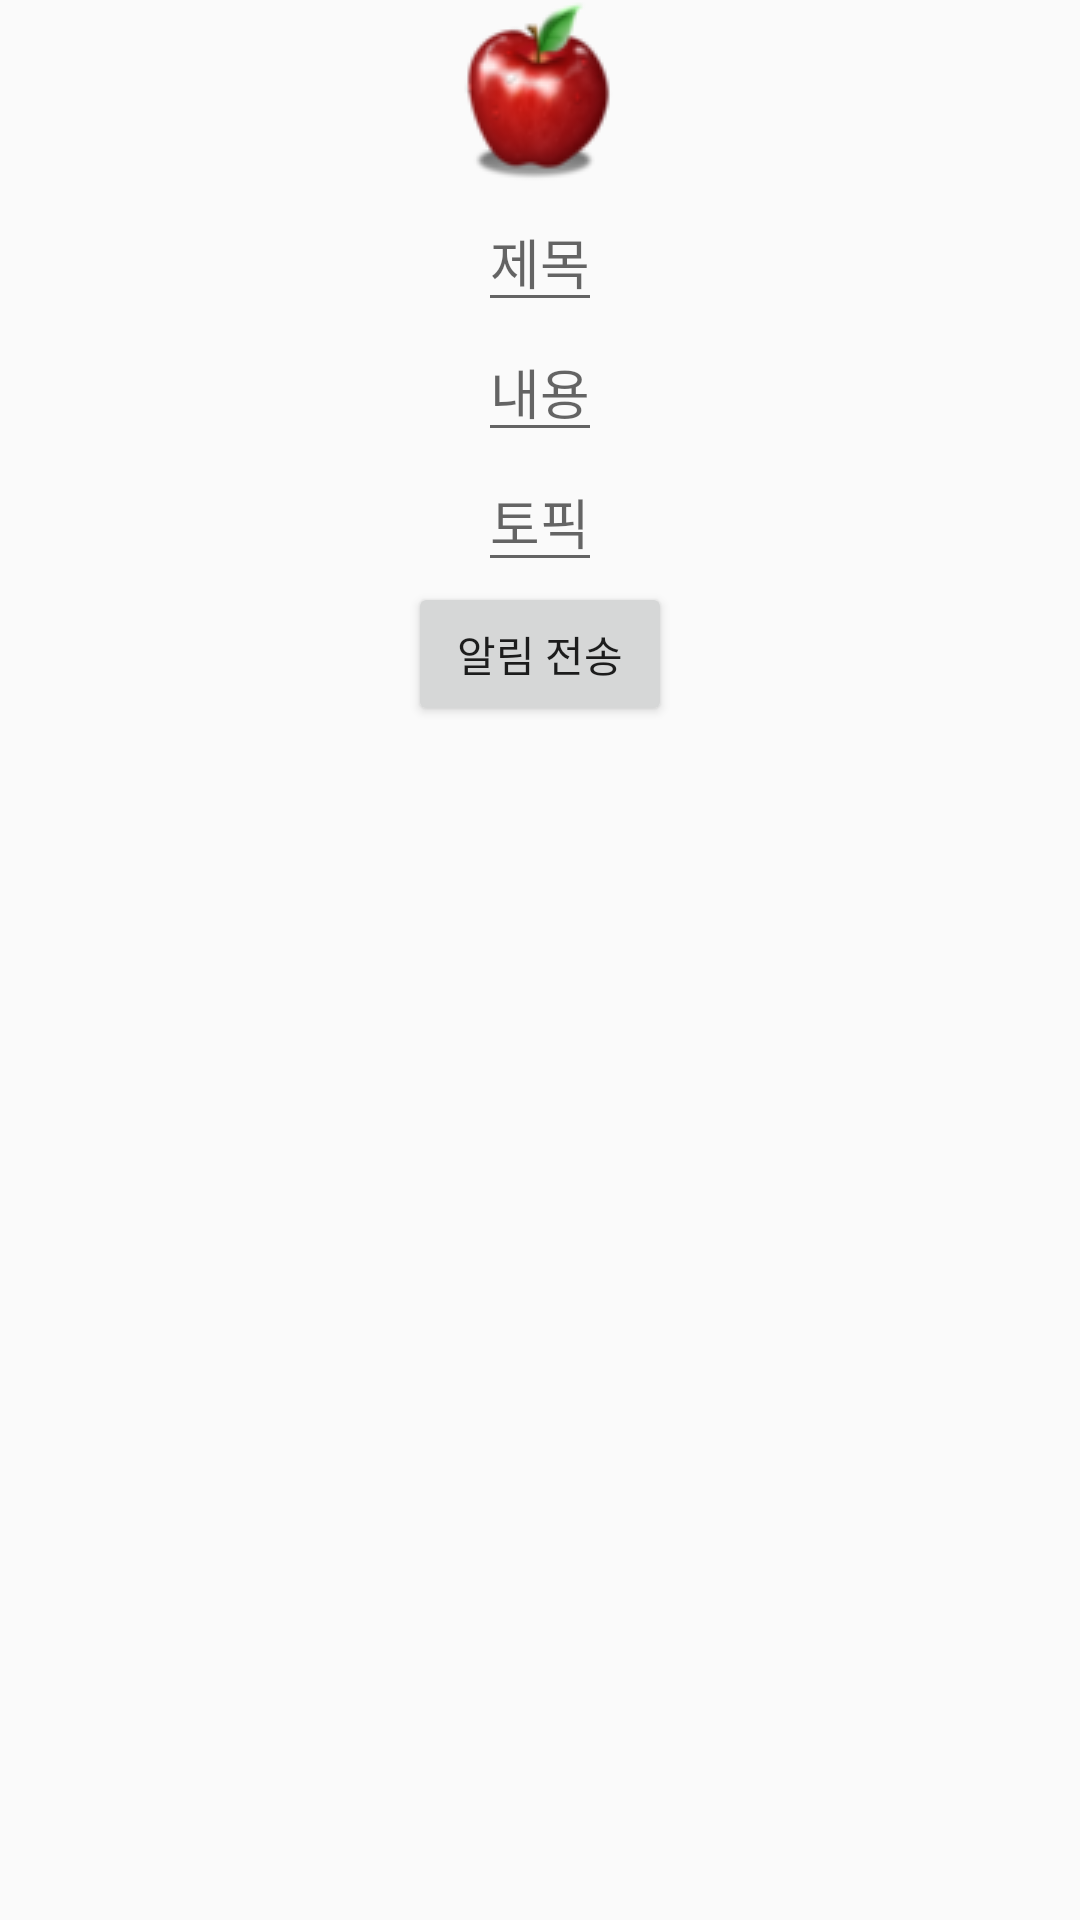

Locate icon controls on the screen. Image size 1080 × 1920, boxes as (x1, y1, x2, y2).
apple: (467, 5, 610, 177)
